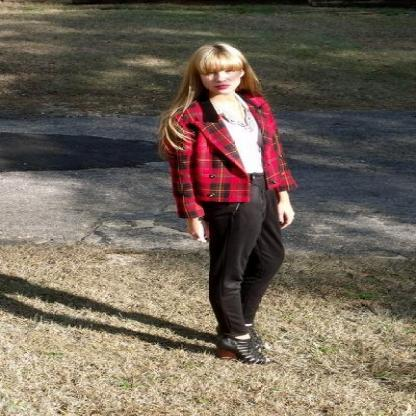jacket: (156, 96, 295, 220)
pants: (198, 175, 289, 340)
shirt: (221, 110, 261, 172)
shoe: (212, 341, 254, 364)
